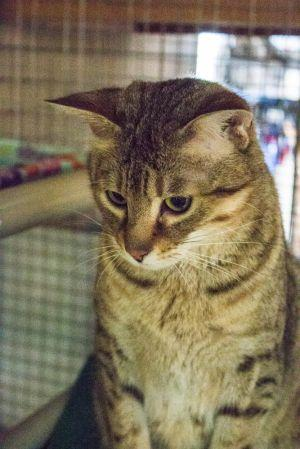bengal: (40, 68, 263, 274)
